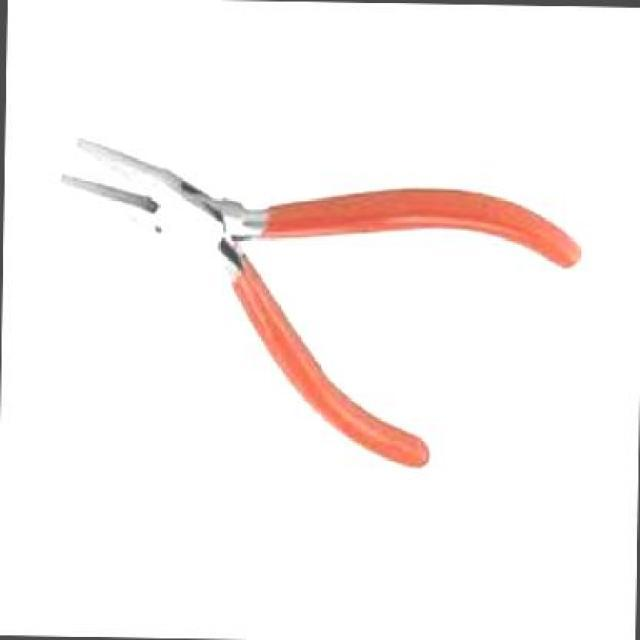pliers: (36, 103, 599, 499)
